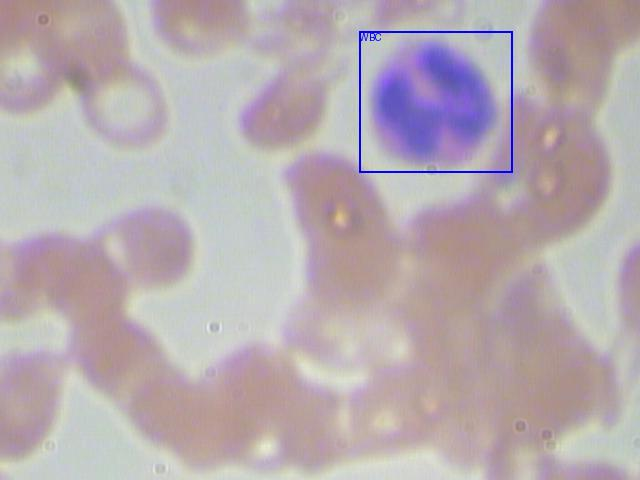WBC: (359, 31, 512, 172)
